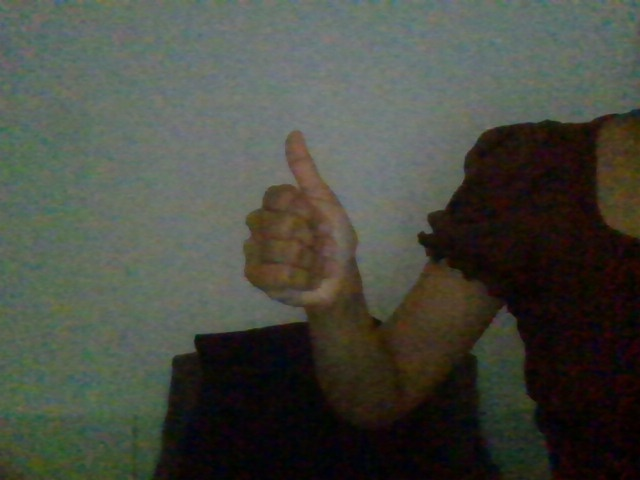Thumbs up: (207, 116, 381, 324)
